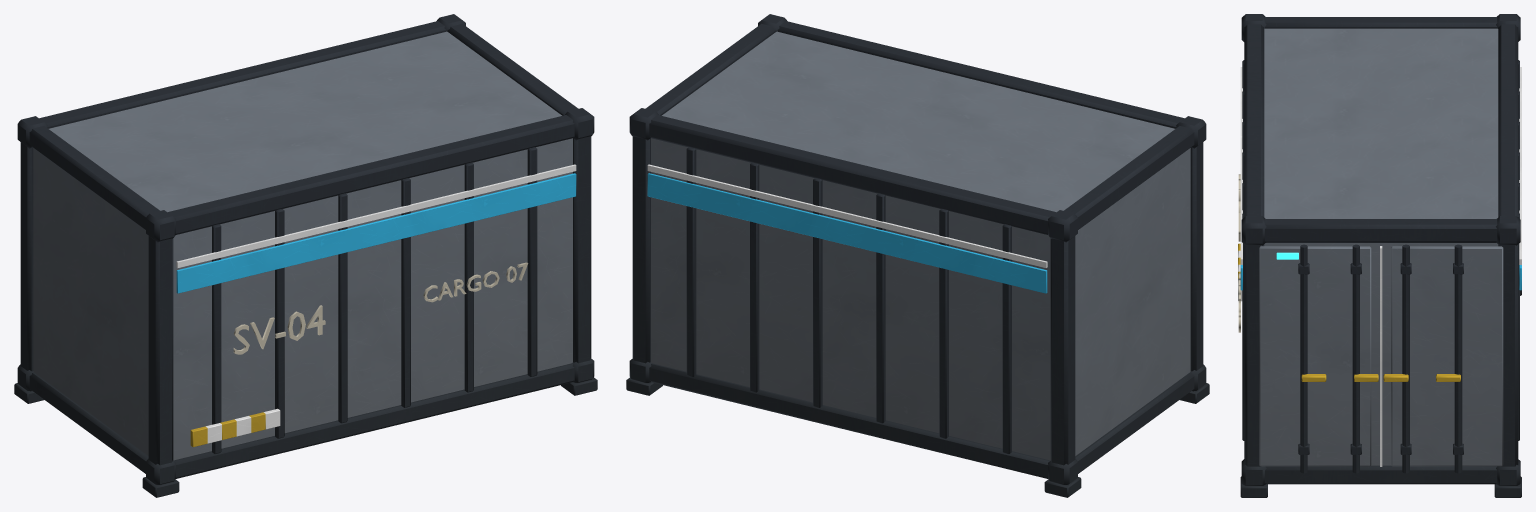
File: cargo_container_salvager.glb
3 views of the same model, side by side, from view 1: azimuth 30°, elevation 25°; view 2: azimuth 150°, elevation 25°; view 3: azimuth 270°, elevation 25° (orthographic).
Visible parts, largest first — view 1: cargo_container_salvager; view 2: cargo_container_salvager; view 3: cargo_container_salvager.
Boxes of the visible parts, x1,y1,x2,y2 form: cargo_container_salvager: (14,14,597,497); cargo_container_salvager: (626,14,1209,497); cargo_container_salvager: (1238,14,1521,497).
Bounding box in the file's own units: 4.16 × 2.42 × 2.28.
Materials: 8 (7 with a texture image).
